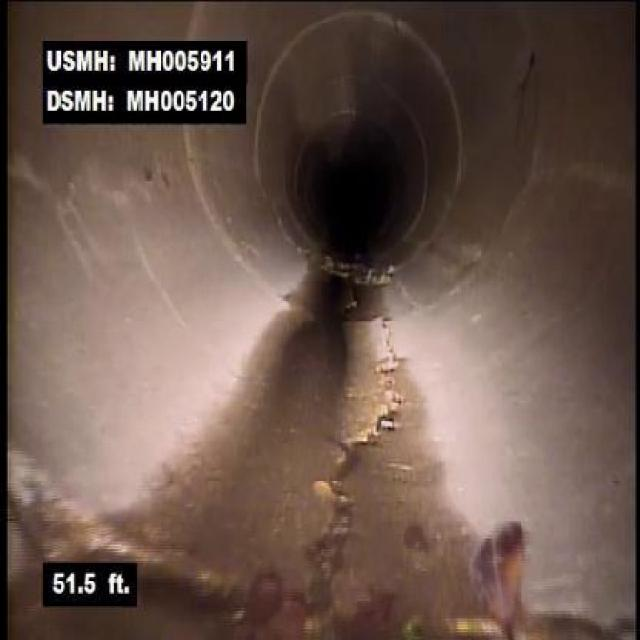Buckling: (298, 397, 404, 578)
Crack: (49, 140, 222, 232), (484, 35, 578, 151), (356, 300, 430, 394)
